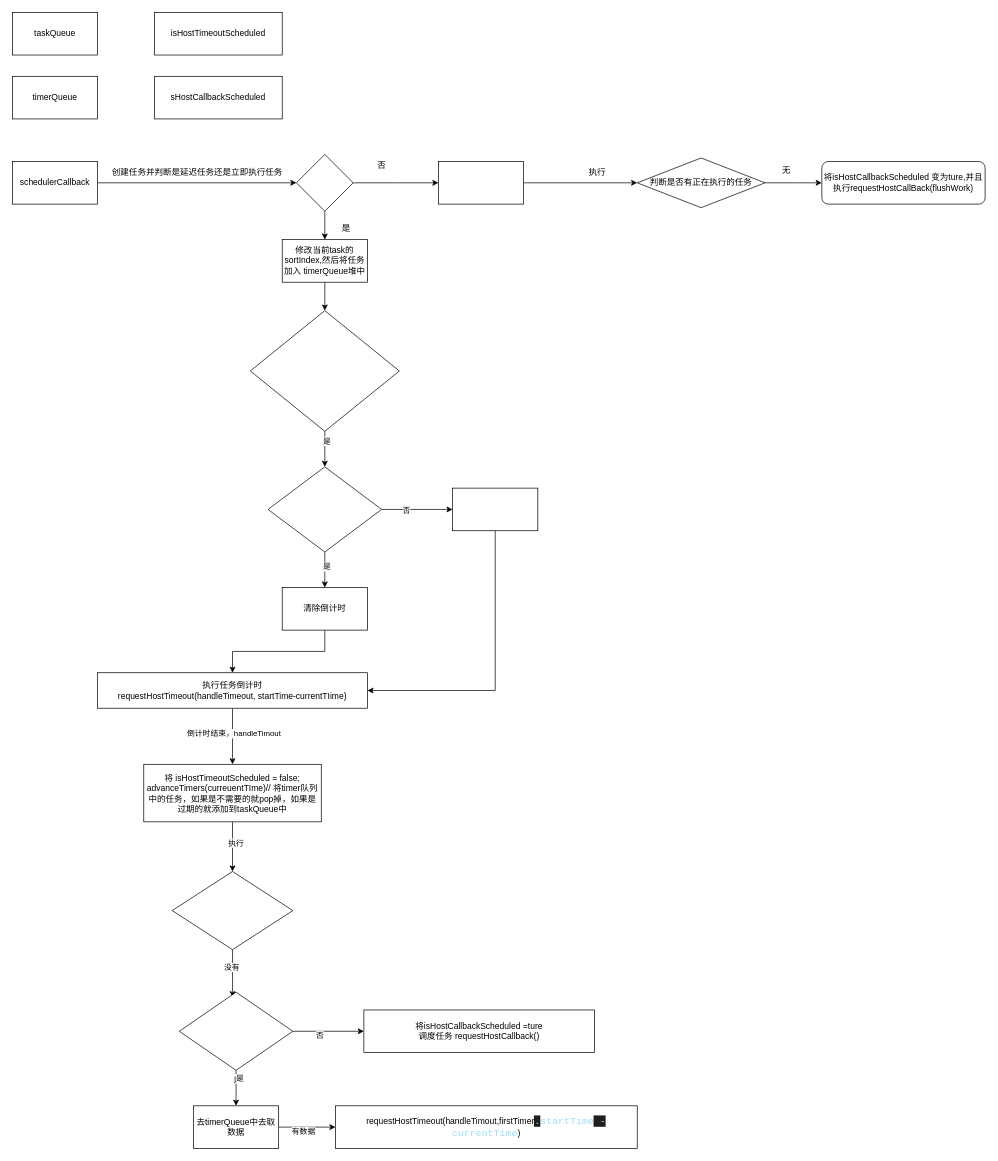
Image size: 998x1161. Some labels were removed from this diagram. The shapes that lost their labels are listed below. From the top down, each one's centre as x and y in pixels, then its label:
At point (324, 182): "是否有延迟".
At point (481, 182): "将数据加入taskQueue最小堆中".
At point (324, 370): "判断 taskQueue队列为空，并且当前的task就是timer队列堆顶的值".
At point (324, 509): "判断是否有其他延迟任务在做倒计时 if(isHostTimeoutScheduled)".
At point (495, 509): "将isHostTimeScheduled = true".
At point (232, 910): "if(!isHostCallbackScheduled当前是否有任务在被执行".
At point (236, 1031): "检查 peek(taskQueue) 不能为空".
